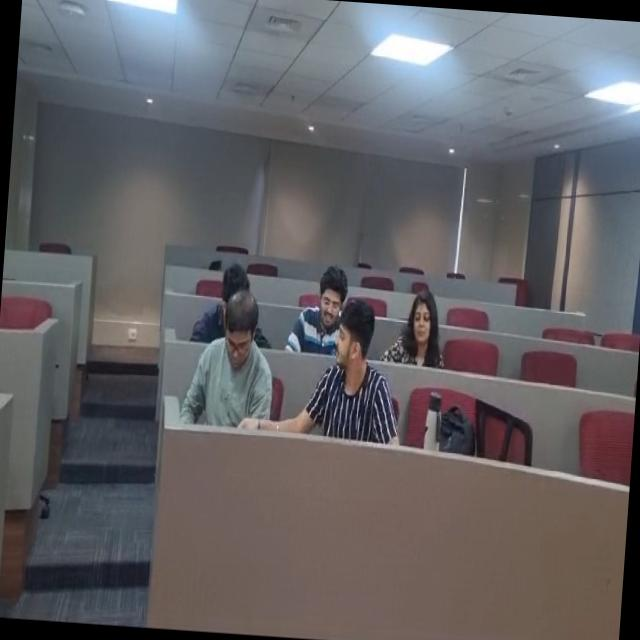cheating: (198, 272, 276, 412), (322, 302, 384, 408), (196, 239, 266, 329), (392, 283, 450, 368), (300, 254, 350, 342)
